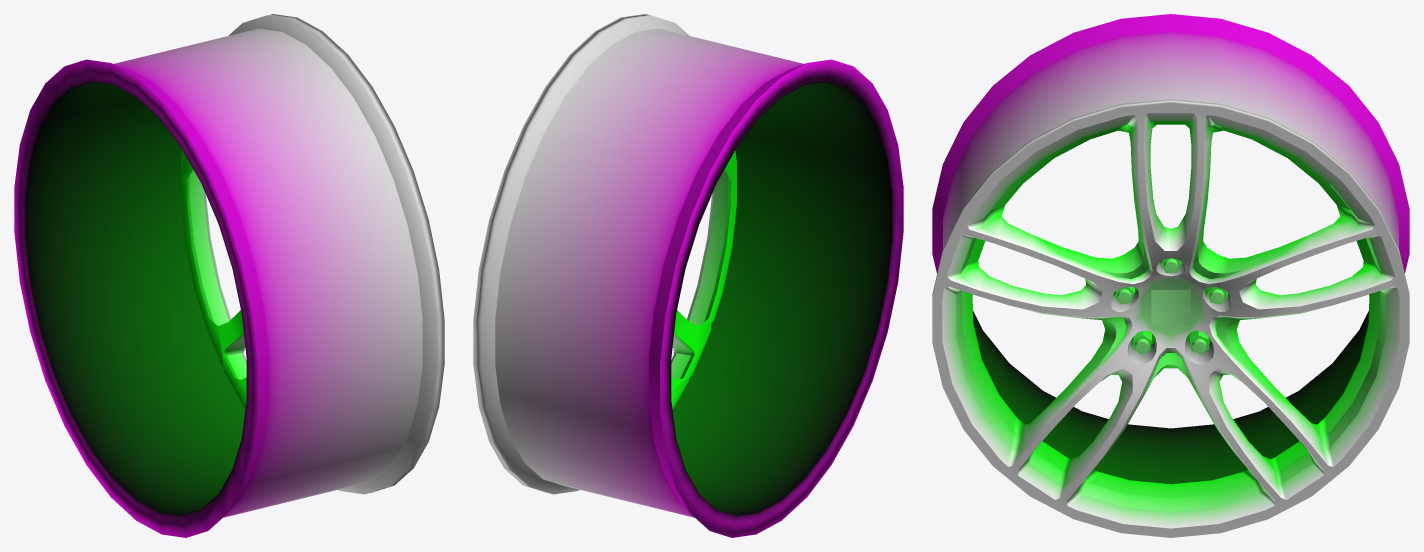
Rendered from Car_Ford_GT_2017_WheelFL_SetA.fbx.
The picture shows the model from 3 angles, left to right: view 1: azimuth 30°, elevation 25°; view 2: azimuth 150°, elevation 25°; view 3: azimuth 270°, elevation 25°; orthographic projection. The views are drawn at different scales.
Visible parts, largest first — view 1: WheelFL 6; view 2: WheelFL 6; view 3: WheelFL 6.
Boxes of the visible parts, x1,y1,x2,y2 form: WheelFL 6: [14, 14, 444, 537]; WheelFL 6: [473, 14, 903, 537]; WheelFL 6: [932, 14, 1409, 537].
Size of the model in its own units: 0.2426 by 0.5429 by 0.5399.
